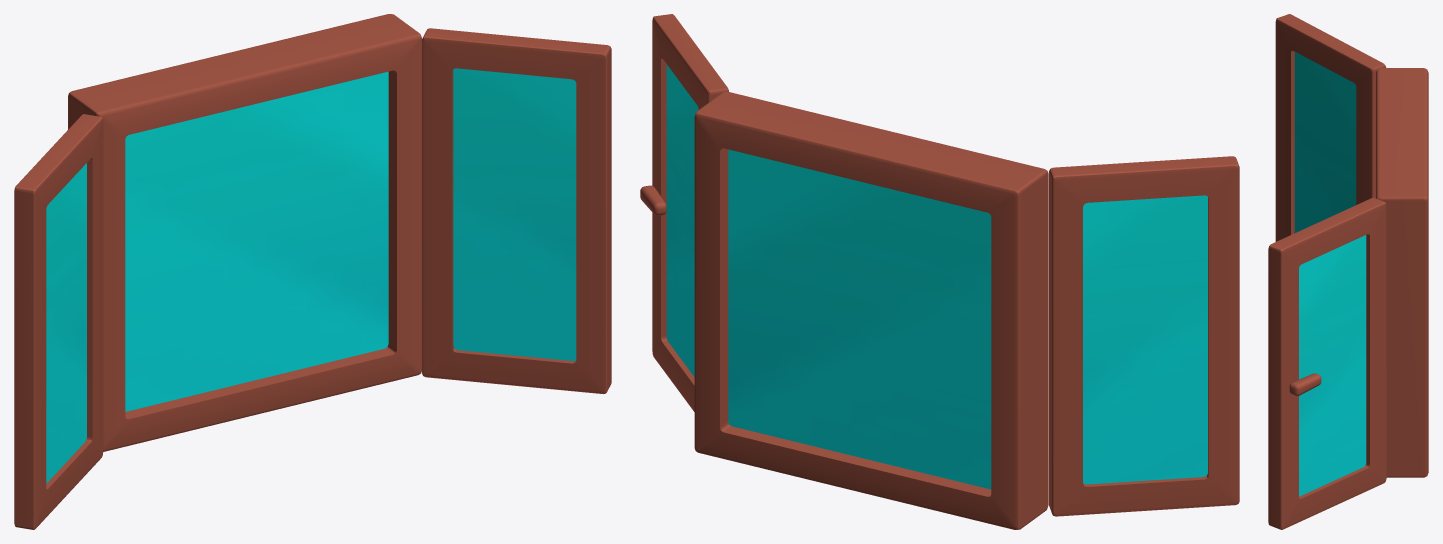
The model's file is cafe_window.fbx.
3 renders of one model, left to right at view 1: azimuth 30°, elevation 25°; view 2: azimuth 150°, elevation 25°; view 3: azimuth 270°, elevation 25°, orthographic. The views are drawn at different scales.
Parts seen in each view (by area): view 1: pCube56; view 2: pCube56; view 3: pCube56.
Part boxes in pixels (x1,y1,x2,y2): pCube56: (14,14,611,529); pCube56: (640,14,1239,529); pCube56: (1268,14,1428,529).
Bounding box in the file's own units: 21.84 × 12.03 × 6.19.
